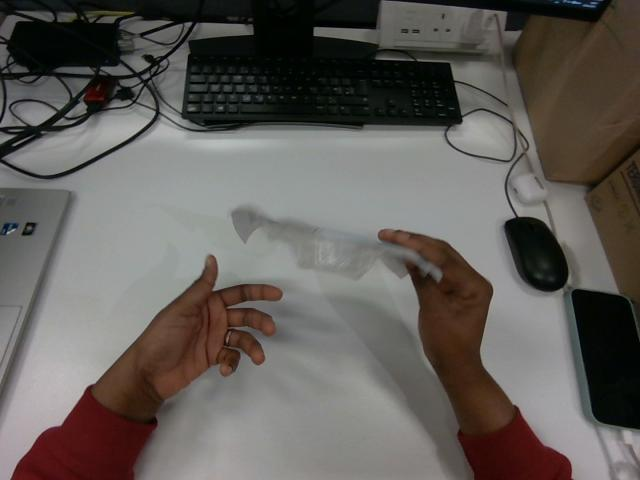gallipot: (231, 207, 441, 281)
